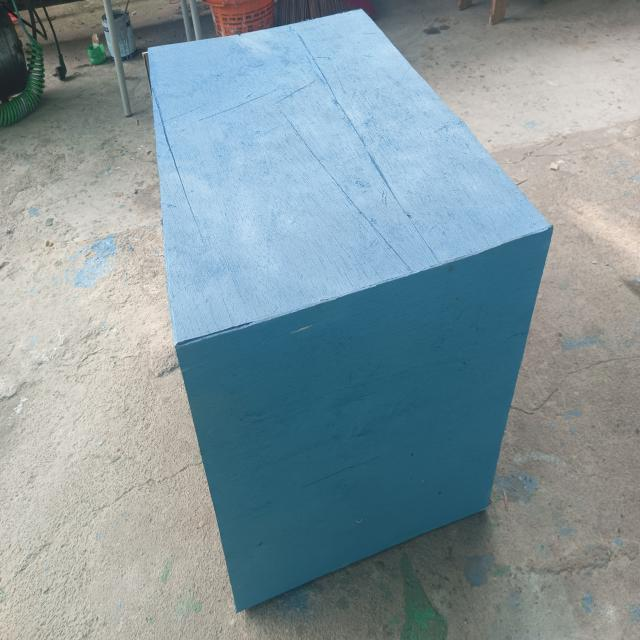blue_box: (141, 0, 512, 617)
